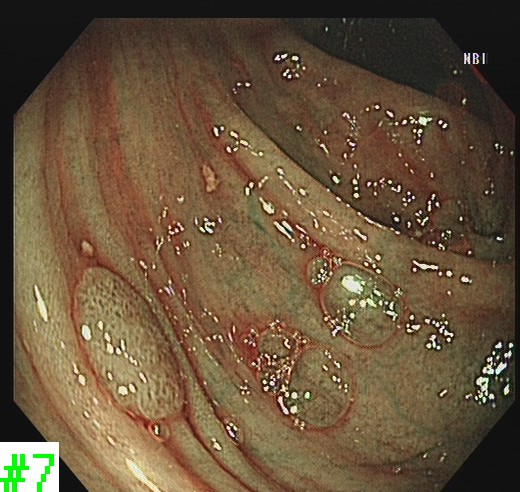adenoma: (68, 262, 187, 424)
